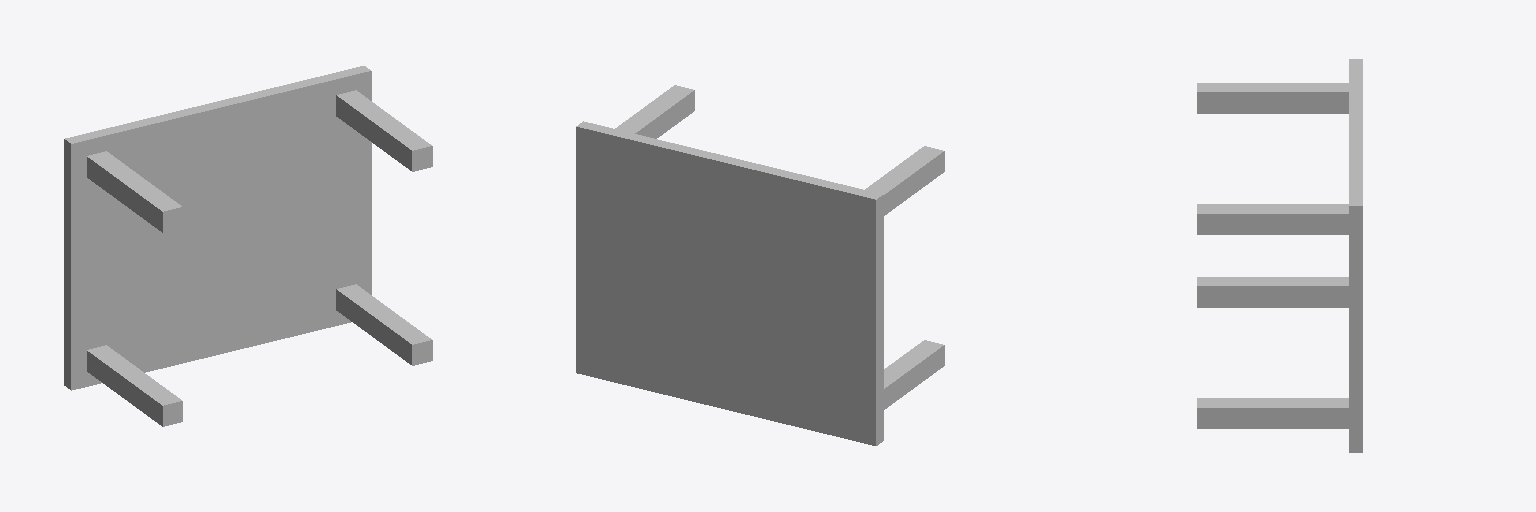
File: random_table54.obj
3 renders of one model, left to right at view 1: azimuth 30°, elevation 25°; view 2: azimuth 150°, elevation 25°; view 3: azimuth 270°, elevation 25°, orthographic.
Visible parts, largest first — view 1: Table_Cube.1335, TableLeg2_Cube.1338, TableLeg0_Cube.1336, TableLeg1_Cube.1337, TableLeg3_Cube.1339; view 2: Table_Cube.1335, TableLeg1_Cube.1337, TableLeg3_Cube.1339, TableLeg0_Cube.1336; view 3: Table_Cube.1335, TableLeg0_Cube.1336, TableLeg1_Cube.1337, TableLeg2_Cube.1338, TableLeg3_Cube.1339.
Boxes of the visible parts, box(x1,y1,x2,y2) form: Table_Cube.1335: box(64, 66, 371, 390); TableLeg2_Cube.1338: box(336, 284, 432, 365); TableLeg0_Cube.1336: box(336, 90, 432, 171); TableLeg1_Cube.1337: box(87, 151, 182, 232); TableLeg3_Cube.1339: box(87, 345, 182, 426); Table_Cube.1335: box(576, 121, 883, 445); TableLeg1_Cube.1337: box(865, 146, 944, 215); TableLeg3_Cube.1339: box(884, 340, 944, 409); TableLeg0_Cube.1336: box(615, 85, 694, 138); Table_Cube.1335: box(1349, 59, 1362, 452); TableLeg0_Cube.1336: box(1197, 204, 1348, 234); TableLeg1_Cube.1337: box(1197, 83, 1348, 113); TableLeg2_Cube.1338: box(1197, 398, 1348, 428); TableLeg3_Cube.1339: box(1197, 277, 1348, 307).
Size of the model in its own units: 8.4 by 6.6 by 4.04.